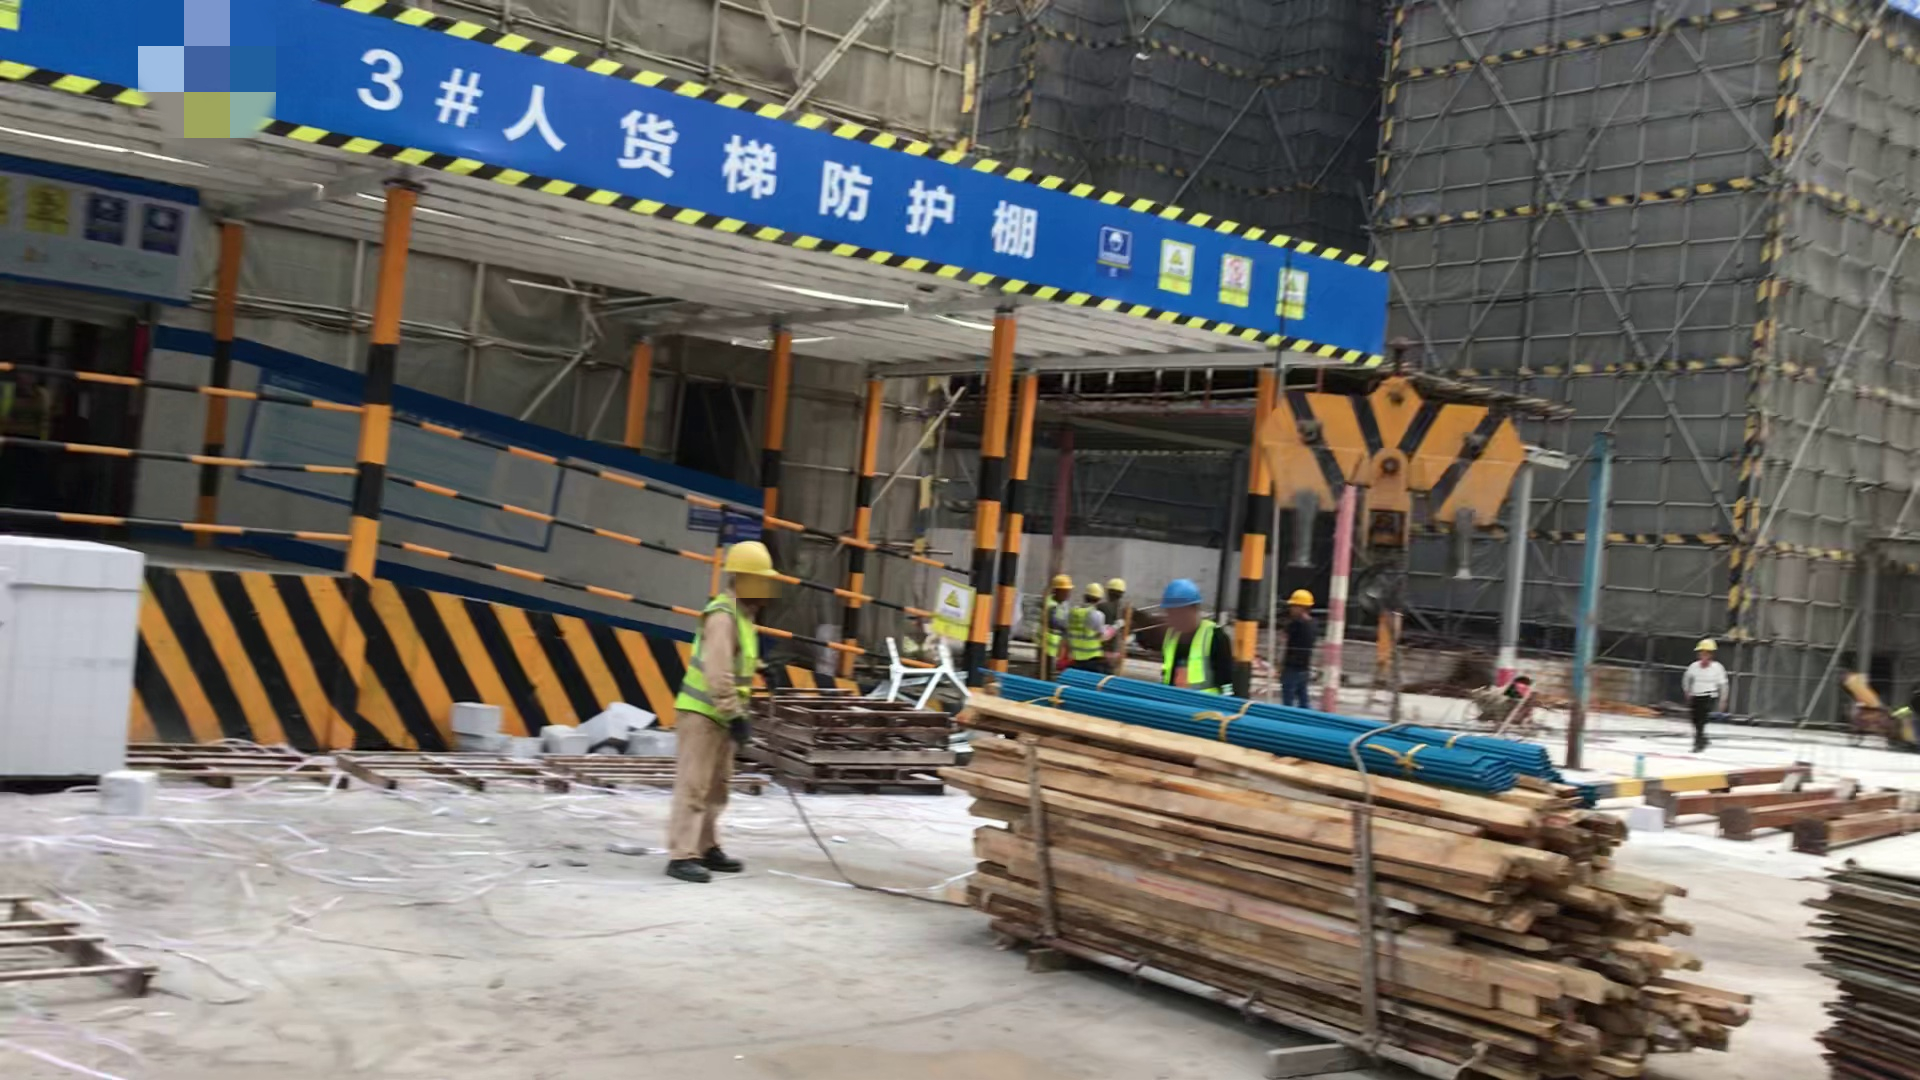board: (1809, 860, 1919, 1080)
brick: (1, 541, 143, 791)
ebox: (1370, 610, 1400, 707)
helmet: (723, 542, 778, 576), (1159, 579, 1203, 610), (1288, 589, 1314, 608), (1080, 583, 1102, 601), (1693, 639, 1718, 654), (1105, 578, 1126, 594), (1052, 574, 1072, 589)
hook: (1255, 370, 1531, 612)
person: (665, 542, 780, 889), (1155, 581, 1236, 701), (1682, 640, 1727, 754), (1278, 585, 1319, 710), (1071, 580, 1112, 677), (1040, 573, 1069, 677), (1104, 574, 1129, 668)
slogan: (1088, 233, 1306, 327), (1, 175, 181, 276), (928, 585, 974, 647)
vest: (679, 603, 759, 727), (1159, 626, 1228, 692), (1070, 609, 1102, 661), (1039, 599, 1063, 656)
wood: (944, 691, 1734, 1080)
